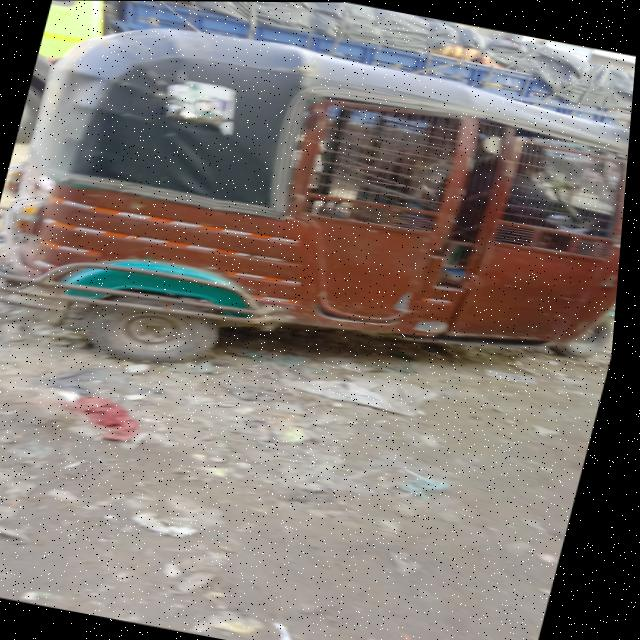cng: (0, 0, 640, 427)
